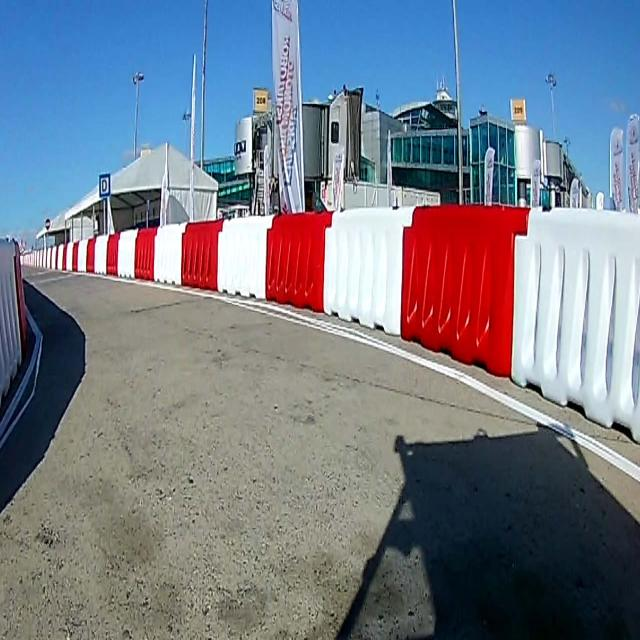durak: (98, 171, 110, 196)
